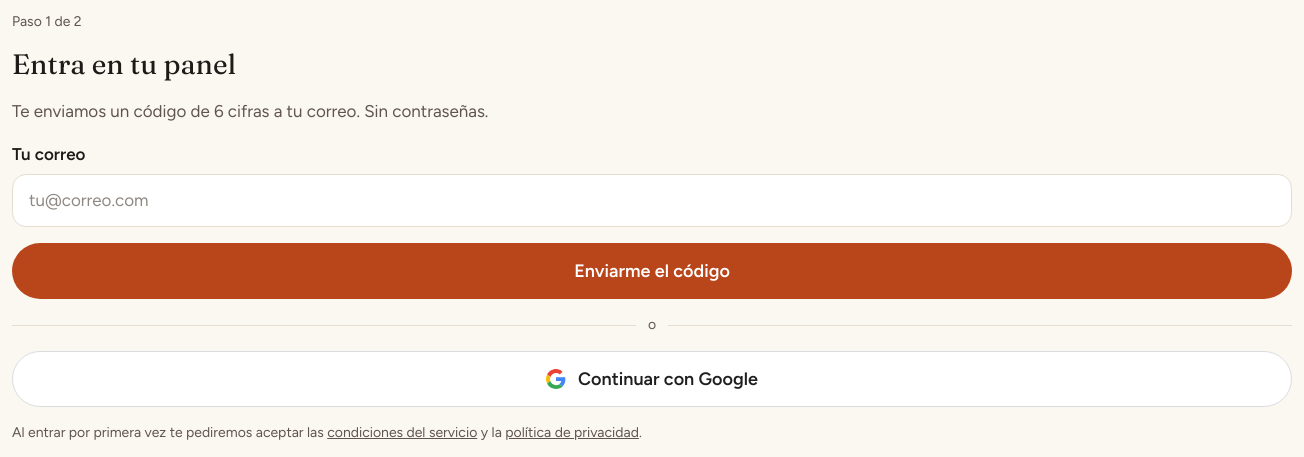
FormularioEntrar › pasa al paso 2 tras enviar el código y lo anuncia
The image size is (1304, 457).
In the field labelled "Tu correo": (652, 201) [12,174,1292,227], type "Bar@x.es"
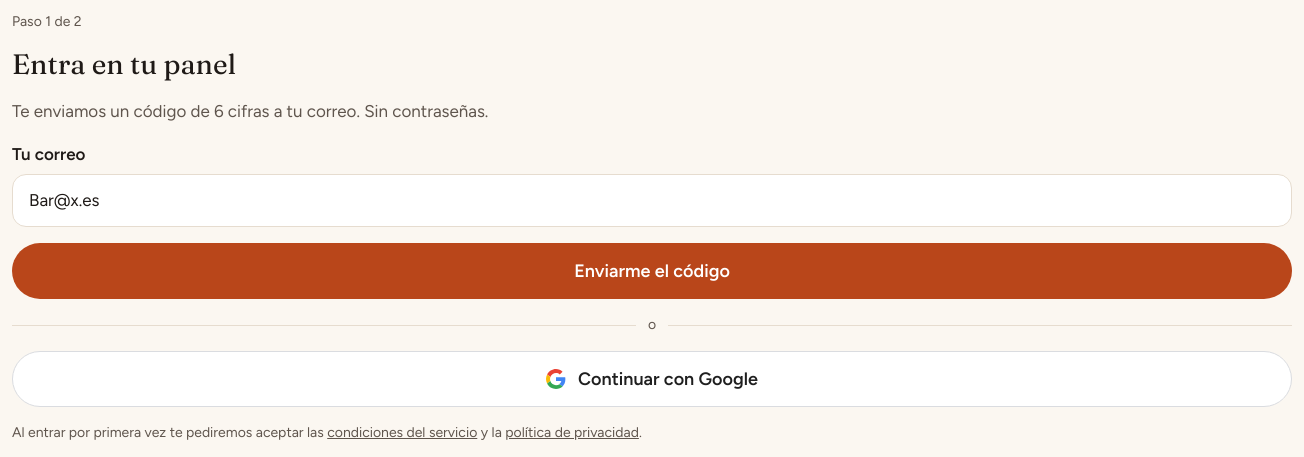
Click the button "Enviarme el código": click(652, 271) [12,243,1292,299]
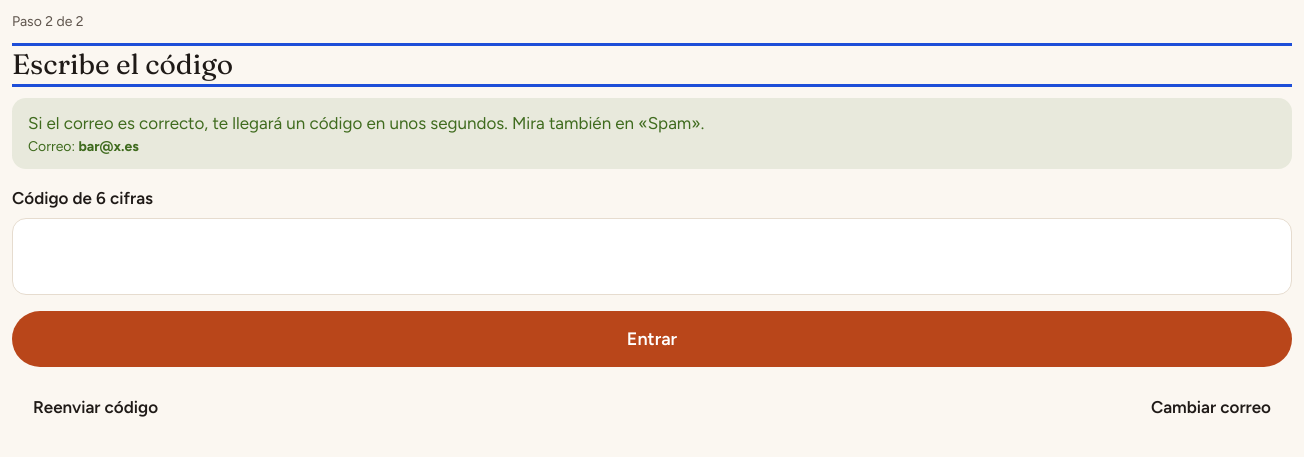
Check: the heading "Escribe el código" is shown, box [12,47,233,81]
Check: the message shows "te llegará un código", box [28,113,704,133]
